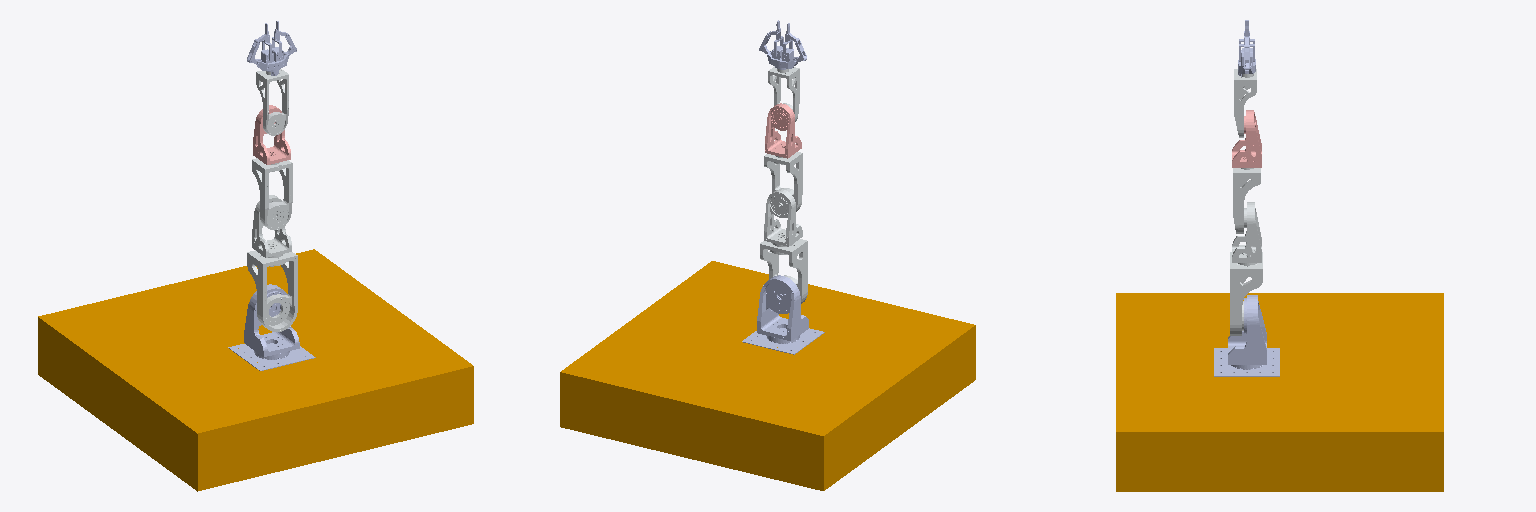
URDF robot description (ourarm):
<robot
  name="ourarm">



  <!-- make dummy joint -->

<joint name="dummy_joint" type="fixed">
    <origin xyz="0 -0.1 0.1" rpy="0 0 0" />
    <child link="base_link_to_link1"/>
    <parent link="dummy_link"/>
  </joint>



<!-- make dummy link -->

  <link name="dummy_link">

    <visual>
      <origin xyz="2.3898E-08 8.8613E-08 -0.022815"  rpy="0 0 0"/>
      <geometry>

	       <box size="1 1 0.2" />

      </geometry>
      <material name="Brown" />
    </visual>

    <collision>
      <origin xyz="2.3898E-08 8.8613E-08 -0.022815"  rpy="0 0 0"/>
      <geometry>
	       <box size="1 1 0.2" />
      </geometry>
      </collision>>

  </link>

  <gazebo reference="dummy_link">
    <material>Gazebo/White</material>
  </gazebo>



<link
    name="base_link_to_link1">
    <inertial>
      <origin
        xyz="2.3898E-08 8.8613E-08 -0.022815"
        rpy="0 0 0" />
      <mass
        value="0.58206" />
      <inertia
        ixx="100.0017297"
        ixy="102.319E-09"
        ixz="-102.0078E-11"
        iyy="100.0017293"
        iyz="-107.1169E-11"
        izz="100.0033774" />     
    </inertial>
    <visual>
      <origin
        xyz="0 0 0"
        rpy="0 0 0" />
      <geometry>
        <mesh
          filename="package://ourarm/meshes/base_link_to_link1.STL" />
      </geometry>
      <material
        name="">
        <color
          rgba="0.79216 0.81961 0.93333 1" />
      </material>
    </visual>
    <collision>
      <origin
        xyz="0 0 0"
        rpy="0 0 0" />
      <geometry>
        <mesh
          filename="package://ourarm/meshes/base_link_to_link1.STL" />
      </geometry>
    </collision>
  </link>

  <gazebo reference="base_link_to_link1">
              
    		<material>Gazebo/White</material>
  </gazebo>

 
  <link
    name="link1">
    <inertial>
      <origin
        xyz="1.0266E-06 0.0087208 0.071275"
        rpy="0 0 0" />
      <mass
        value="1.8225" />
      <inertia
        ixx="0.0079734"
        ixy="-8.4694E-07"
        ixz="-6.4777E-07"
        iyy="0.010432"
        iyz="-0.0006408"
        izz="0.0051683" />
    </inertial>
    <visual>
      <origin
        xyz="0 0 0"
        rpy="0 0 0" />
      <geometry>
        <mesh
          filename="package://ourarm/meshes/link1.STL" />
      </geometry>
      <material
        name="">
        <color
          rgba="0.79216 0.81961 0.93333 1" />
      </material>
    </visual>
    <collision>
      <origin
        xyz="0 0 0"
        rpy="0 0 0" />
      <geometry>
        <mesh
          filename="package://ourarm/meshes/link1.STL" />
      </geometry>
    </collision>
  </link>

  <gazebo reference="link1">
              
    		<material>Gazebo/Black</material>
  </gazebo>

  <joint
    name="joint1"
    type="revolute">
    <origin
      xyz="0 0 0"
      rpy="0 0 0" />
    <parent
      link="base_link_to_link1" />
    <child
      link="link1" />
    <axis
      xyz="0 0 1" />
    <limit
      lower="-2.74"
      upper="2.74"
      effort="100"
      velocity="0.8" />
  </joint>
  <link
    name="link2">
    <inertial>
      <origin
        xyz="-6.2218E-06 0.09265 0.0055911"
        rpy="0 0 0" />
      <mass
        value="1.6402" />
      <inertia
        ixx="0.011985"
        ixy="1.0785E-06"
        ixz="-2.0116E-07"
        iyy="0.0045001"
        iyz="0.0015108"
        izz="0.014267" />
    </inertial>
    <visual>
      <origin
        xyz="0 0 0"
        rpy="0 0 0" />
      <geometry>
        <mesh
          filename="package://ourarm/meshes/link2.STL" />
      </geometry>
      <material
        name="">
        <color
          rgba="0.89804 0.91765 0.92941 1" />
      </material>
    </visual>
    <collision>
      <origin
        xyz="0 0 0"
        rpy="0 0 0" />
      <geometry>
        <mesh
          filename="package://ourarm/meshes/link2.STL" />
      </geometry>
    </collision>
  </link>

  <gazebo reference="link2">

    		<material>Gazebo/Blue</material>
  </gazebo>


  <joint
    name="joint2"
    type="revolute">
    <origin
      xyz="0 -0.0106 0.1344"
      rpy="1.5708 -1.0021E-33 -4.3239E-18" />
    <parent
      link="link1" />
    <child
      link="link2" />
    <axis
      xyz="0 0 1" />
    <limit
      lower="-1.52"
      upper="1.52"
      effort="100"
      velocity="0.8" />
  </joint>
  <link
    name="link3">
    <inertial>
      <origin
        xyz="2.2468E-06 0.0054988 0.067608"
        rpy="0 0 0" />
      <mass
        value="0.85044" />
      <inertia
        ixx="0.0030469"
        ixy="-2.7891E-07"
        ixz="1.1927E-07"
        iyy="0.0036219"
        iyz="-0.00013166"
        izz="0.0013003" />
    </inertial>
    <visual>
      <origin
        xyz="0 0 0"
        rpy="0 0 0" />
      <geometry>
        <mesh
          filename="package://ourarm/meshes/link3.STL" />
      </geometry>
      <material
        name="">
        <color
          rgba="0.89804 0.91765 0.92941 1" />
      </material>
    </visual>
    <collision>
      <origin
        xyz="0 0 0"
        rpy="0 0 0" />
      <geometry>
        <mesh
          filename="package://ourarm/meshes/link3.STL" />
      </geometry>
    </collision>
  </link>

  <gazebo reference="link3">

    		<material>Gazebo/Red</material>
  </gazebo>

  <joint
    name="joint3"
    type="revolute">
    <origin
      xyz="0 0.201 -0.0106"
      rpy="-1.5708 4.3239E-18 0" />
    <parent
      link="link2" />
    <child
      link="link3" />
    <axis
      xyz="0 0 -1" />
    <limit
      lower="-1.6"
      upper="1.6"
      effort="100"
      velocity="0.8" />
  </joint>
  <link
    name="link4">
    <inertial>
      <origin
        xyz="-1.5408E-05 0.090484 -0.0071603"
        rpy="0 0 0" />
      <mass
        value="0.99398" />
      <inertia
        ixx="0.0057865"
        ixy="1.1357E-06"
        ixz="4.1161E-07"
        iyy="0.0017448"
        iyz="0.00079814"
        izz="0.0065485" />
    </inertial>
    <visual>
      <origin
        xyz="0 0 0"
        rpy="0 0 0" />
      <geometry>
        <mesh
          filename="package://ourarm/meshes/link4.STL" />
      </geometry>
      <material
        name="">
        <color
          rgba="0.89804 0.91765 0.92941 1" />
      </material>
    </visual>
    <collision>
      <origin
        xyz="0 0 0"
        rpy="0 0 0" />
      <geometry>
        <mesh
          filename="package://ourarm/meshes/link4.STL" />
      </geometry>
    </collision>
  </link>

  <gazebo reference="link4">

    		<material>Gazebo/White</material>
  </gazebo>

  <joint
    name="joint4"
    type="revolute">
    <origin
      xyz="0 -0.021 0.129"
      rpy="1.5708 0 -5.5511E-17" />
    <parent
      link="link3" />
    <child
      link="link4" />
    <axis
      xyz="0 0 -1" />
    <limit
      lower="-1.78"
      upper="1.78"
      effort="100"
      velocity="0.8" />
  </joint>
  <link
    name="link5">
    <inertial>
      <origin
        xyz="4.2635E-06 0.0054519 0.062593"
        rpy="0 0 0" />
      <mass
        value="0.74616" />
      <inertia
        ixx="0.002457"
        ixy="2.4694E-07"
        ixz="4.6969E-08"
        iyy="0.002853"
        iyz="-0.00014007"
        izz="0.0010252" />
    </inertial>
    <visual>
      <origin
        xyz="0 0 0"
        rpy="0 0 0" />
      <geometry>
        <mesh
          filename="package://ourarm/meshes/link5.STL" />
      </geometry>
      <material
        name="">
        <color
          rgba="1 0.75294 0.75294 1" />
      </material>
    </visual>
    <collision>
      <origin
        xyz="0 0 0"
        rpy="0 0 0" />
      <geometry>
        <mesh
          filename="package://ourarm/meshes/link5.STL" />
      </geometry>
    </collision>
  </link>

  <gazebo reference="link5">

    		<material>Gazebo/Black</material>
  </gazebo>

  <joint
    name="joint5"
    type="revolute">
    <origin
      xyz="0 0.19 -0.021"
      rpy="-1.5708 5.5511E-17 -5.2452E-32" />
    <parent
      link="link4" />
    <child
      link="link5" />
    <axis
      xyz="0 0 -1" />
    <limit
      lower="-2.35"
      upper="2.35"
      effort="100"
      velocity="0.8" />
  </joint>
  <link
    name="link6">
    <inertial>
      <origin
        xyz="-6.0163E-07 0.091826 -0.0020734"
        rpy="0 0 0" />
      <mass
        value="0.51521" />
      <inertia
        ixx="0.0025096"
        ixy="-1.4743E-08"
        ixz="1.7863E-07"
        iyy="0.00060996"
        iyz="0.00024098"
        izz="0.0027997" />
    </inertial>
    <visual>
      <origin
        xyz="0 0 0"
        rpy="0 0 0" />
      <geometry>
        <mesh
          filename="package://ourarm/meshes/link6.STL" />
      </geometry>
      <material
        name="">
        <color
          rgba="0.89804 0.91765 0.92941 1" />
      </material>
    </visual>
    <collision>
      <origin
        xyz="0 0 0"
        rpy="0 0 0" />
      <geometry>
        <mesh
          filename="package://ourarm/meshes/link6.STL" />
      </geometry>
    </collision>
  </link>

  <gazebo reference="link6">
                
    		<material>Gazebo/Blue</material>
  </gazebo>

  <joint
    name="joint6"
    type="revolute">
    <origin
      xyz="0 -0.015 0.124"
      rpy="1.5708 0 -2.7756E-17" />
    <parent
      link="link5" />
    <child
      link="link6" />
    <axis
      xyz="0 0 -1" />
    <limit
      lower="-1.78"
      upper="1.78"
      effort="100"
      velocity="0.8" />
  </joint>
  <link
    name="link7">
    <inertial>
      <origin
        xyz="0 -8.9802E-18 0.028684"
        rpy="0 0 0" />
      <mass
        value="0.13128" />
      <inertia
        ixx="5.7249E-05"
        ixy="-2.6646E-21"
        ixz="-7.2095E-22"
        iyy="5.7249E-05"
        iyz="1.5156E-21"
        izz="5.334E-05" />
    </inertial>
    <visual>
      <origin
        xyz="0.01756 -0.017 0.016"
        rpy="0 0 0" />
      <geometry>
        <mesh
          filename="package://ourarm/meshes/gripper.STL" />
      </geometry>
      <material
        name="">
        <color
          rgba="0.79216 0.81961 0.93333 1" />
      </material>
    </visual>
    <collision>
      <origin
        xyz="0.01756 -0.017 0.016"
        rpy="0 0 0" />
      <geometry>
        <mesh
          filename="package://ourarm/meshes/gripper.STL" />
      </geometry>
    </collision>
  </link>

  <gazebo reference="link7">
               
    		<material>Gazebo/Red</material>
  </gazebo>

  <joint
    name="joint7"
    type="revolute">
    <origin
      xyz="0 0.18 -0.015"
      rpy="-1.5708 2.7756E-17 -2.8887E-32" />
    <parent
      link="link6" />
    <child
      link="link7" />
    <axis
      xyz="0 0 -1" />
    <limit
      lower="-2.61"
      upper="2.61"
      effort="100"
      velocity="0.8" />
  </joint>


  <link
    name="link8_dummy">
      </link>

  <gazebo reference="link8_dummy">
    <material>Gazebo/White</material>
  </gazebo>

  <joint name="joint8_dummy" type="fixed">
     <parent link="link7"/>
     <child link="link8_dummy"/>
   </joint>



  <transmission name="tran1">
    <type>transmission_interface/SimpleTransmission</type>
    <joint name="joint1">
      <hardwareInterface>PositionJointInterface</hardwareInterface>
    </joint>
    <actuator name="motor1">
      <hardwareInterface>PositionJointInterface</hardwareInterface>
      <mechanicalReduction>1</mechanicalReduction>
    </actuator>
  </transmission>
  <transmission name="tran2">
    <type>transmission_interface/SimpleTransmission</type>
    <joint name="joint2">
      <hardwareInterface>PositionJointInterface</hardwareInterface>
    </joint>
    <actuator name="motor2">
      <hardwareInterface>PositionJointInterface</hardwareInterface>
      <mechanicalReduction>1</mechanicalReduction>
    </actuator>
  </transmission>
  <transmission name="tran3">
    <type>transmission_interface/SimpleTransmission</type>
    <joint name="joint3">
      <hardwareInterface>PositionJointInterface</hardwareInterface>
    </joint>
    <actuator name="motor3">
      <hardwareInterface>PositionJointInterface</hardwareInterface>
      <mechanicalReduction>1</mechanicalReduction>
    </actuator>
  </transmission>
  <transmission name="tran4">
    <type>transmission_interface/SimpleTransmission</type>
    <joint name="joint4">
      <hardwareInterface>PositionJointInterface</hardwareInterface>
    </joint>
    <actuator name="motor4">
      <hardwareInterface>PositionJointInterface</hardwareInterface>
      <mechanicalReduction>1</mechanicalReduction>
    </actuator>
  </transmission>
  <transmission name="tran5">
    <type>transmission_interface/SimpleTransmission</type>
    <joint name="joint5">
      <hardwareInterface>PositionJointInterface</hardwareInterface>
    </joint>
    <actuator name="motor5">
      <hardwareInterface>PositionJointInterface</hardwareInterface>
      <mechanicalReduction>1</mechanicalReduction>
    </actuator>
  </transmission>
  <transmission name="tran6">
    <type>transmission_interface/SimpleTransmission</type>
    <joint name="joint6">
      <hardwareInterface>PositionJointInterface</hardwareInterface>
    </joint>
    <actuator name="motor6">
      <hardwareInterface>PositionJointInterface</hardwareInterface>
      <mechanicalReduction>1</mechanicalReduction>
    </actuator>
  </transmission>
  <transmission name="tran7">
    <type>transmission_interface/SimpleTransmission</type>
    <joint name="joint7">
      <hardwareInterface>PositionJointInterface</hardwareInterface>
    </joint>
    <actuator name="motor7">
      <hardwareInterface>PositionJointInterface</hardwareInterface>
      <mechanicalReduction>1</mechanicalReduction>
    </actuator>
  </transmission>




  <!-- ros_control plugin -->
  <gazebo>
    <plugin filename="libgazebo_ros_control.so" name="gazebo_ros_control">
      <robotNamespace>/ourarm</robotNamespace>
    </plugin>
  </gazebo>




</robot>

--- Render facts (derived) ---
The picture shows the robot from 3 angles, left to right: view 1: azimuth 30°, elevation 25°; view 2: azimuth 150°, elevation 25°; view 3: azimuth 270°, elevation 25°; orthographic projection.
Robot: ourarm — 10 links, 9 joints (7 revolute, 2 fixed); root link dummy_link; default pose: all joints at 0.
Visible links, largest first — view 1: dummy_link, link2, link4, link1, link6, link7, link5, link3, base_link_to_link1; view 2: dummy_link, link1, link3, link2, link5, link7, link4, base_link_to_link1, link6; view 3: dummy_link, link1, link2, base_link_to_link1, link3, link5, link4, link6, link7.
Link boxes in pixels (<box>): dummy_link: <box>38,249,473,491</box>; link2: <box>247,250,297,331</box>; link4: <box>252,158,292,230</box>; link1: <box>244,284,299,356</box>; link6: <box>256,69,288,135</box>; link7: <box>247,21,296,75</box>; link5: <box>253,105,290,164</box>; link3: <box>252,195,291,257</box>; base_link_to_link1: <box>228,343,315,370</box>; dummy_link: <box>560,261,975,490</box>; link1: <box>757,275,808,340</box>; link3: <box>764,189,802,246</box>; link2: <box>760,239,807,303</box>; link5: <box>765,103,801,158</box>; link7: <box>759,20,806,69</box>; link4: <box>764,152,802,211</box>; base_link_to_link1: <box>742,328,824,354</box>; link6: <box>768,66,799,121</box>; dummy_link: <box>1116,293,1443,491</box>; link1: <box>1228,295,1266,364</box>; link2: <box>1230,252,1262,335</box>; base_link_to_link1: <box>1214,348,1279,376</box>; link3: <box>1232,202,1261,262</box>; link5: <box>1232,110,1261,167</box>; link4: <box>1233,168,1260,233</box>; link6: <box>1234,69,1256,137</box>; link7: <box>1238,20,1255,76</box>.
Size in the robot's own frame: 1 by 1 by 1.34 metres.
8 mesh visuals loaded from 8 distinct referenced files (8 binary STL).
